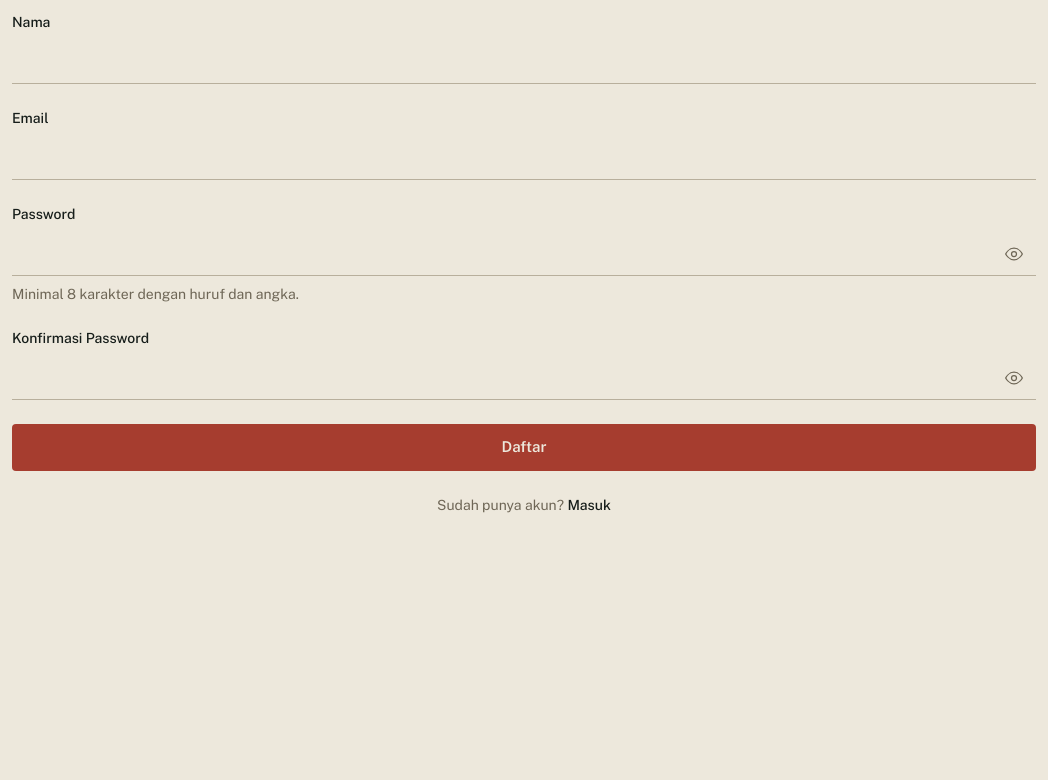
Test: RegisterForm › shows backend field errors inline
The image size is (1048, 780).
Type "Budi" into the field labelled "Nama" at (524,62), box [12,40,1036,84]
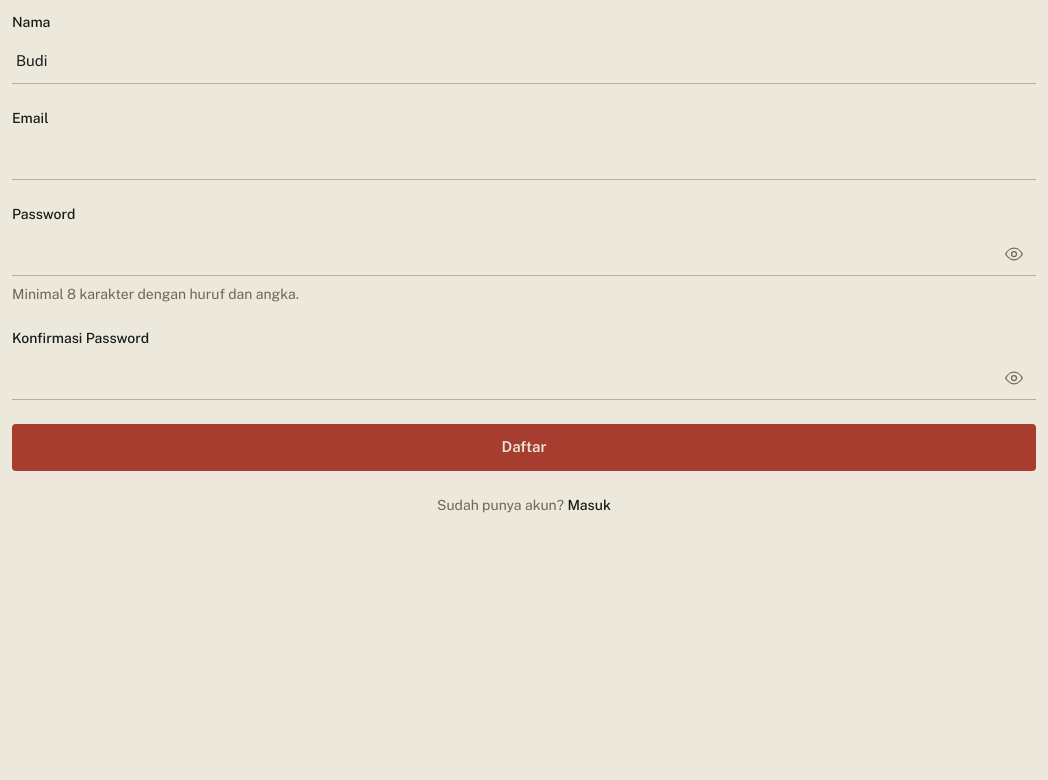
Type "a@b.com" into the field labelled "Email" at (524,158), box [12,136,1036,180]
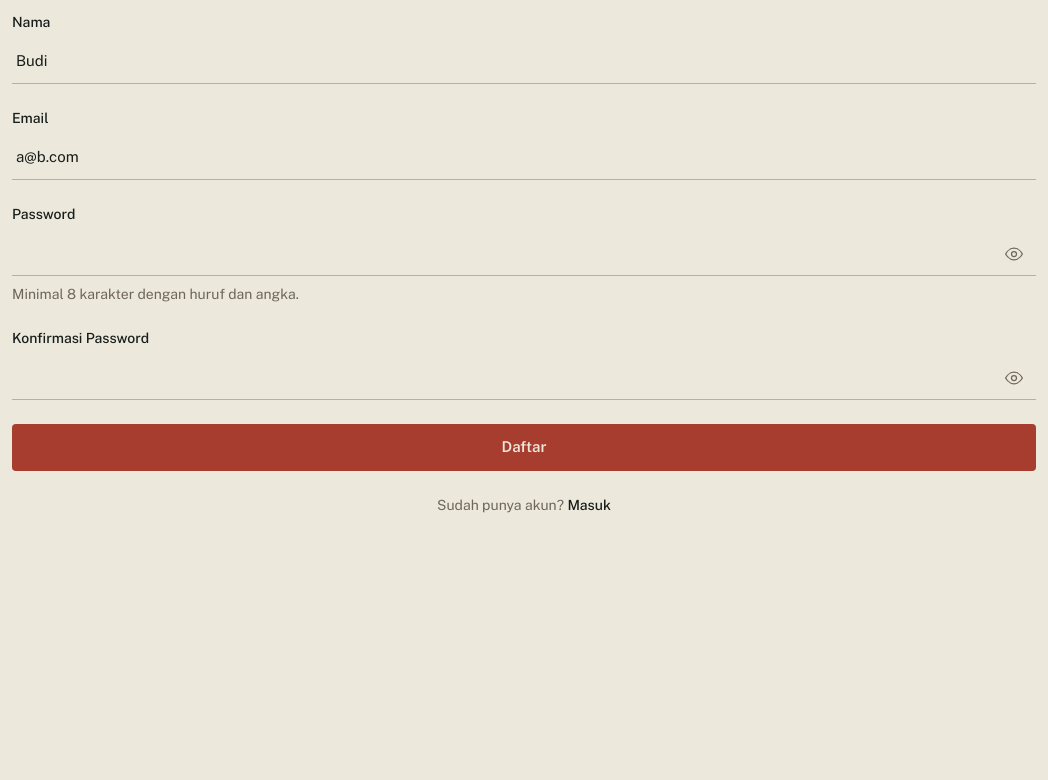
Type "Test1234" into the password field labelled "Password" at (524,254), box [12,232,1036,276]
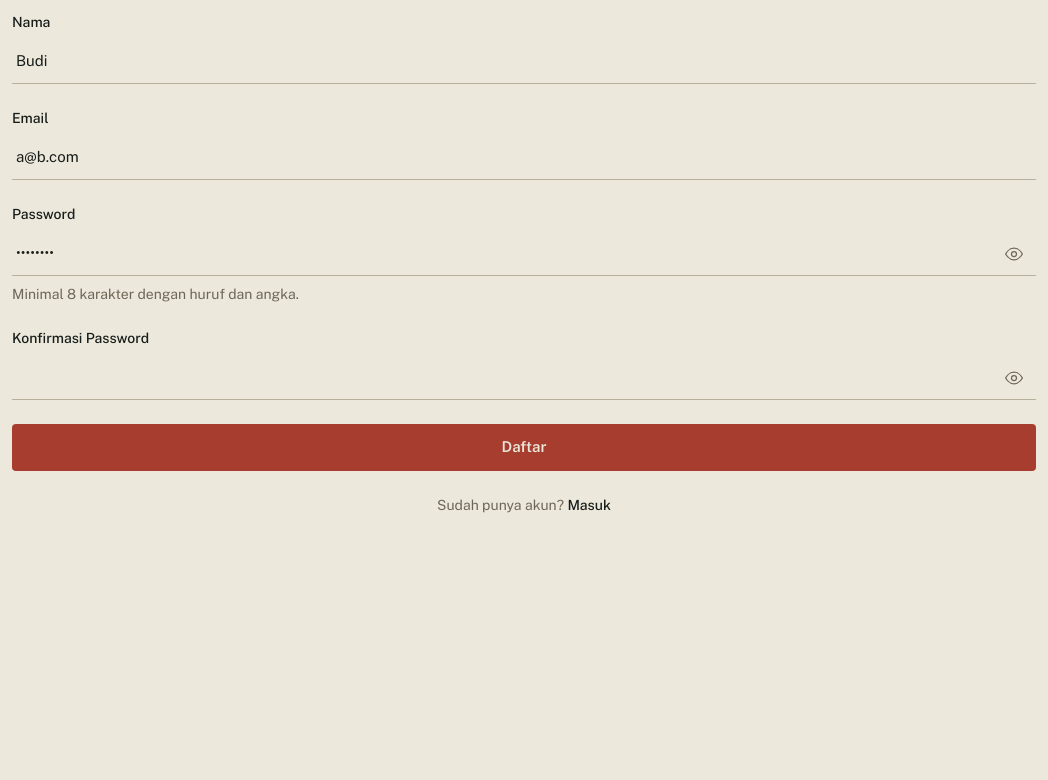
Type "Test1234" into the password field labelled "Konfirmasi Password" at (524,378), box [12,356,1036,400]
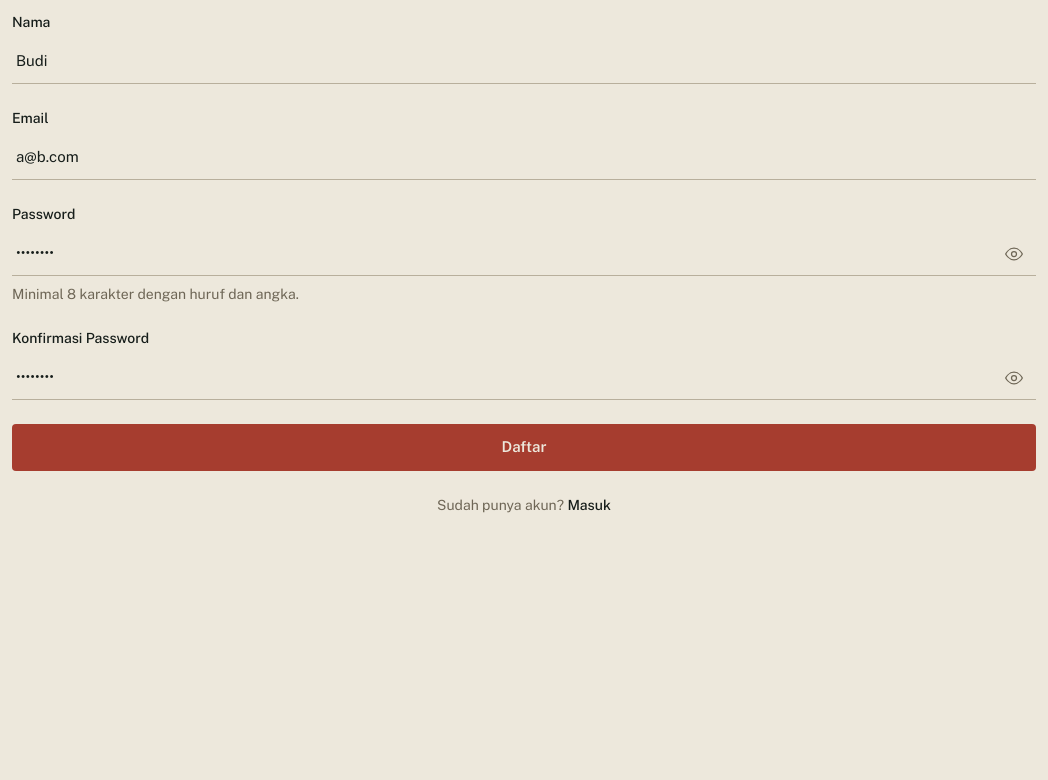
Click the button "Daftar" at (524,447), box [12,424,1036,470]
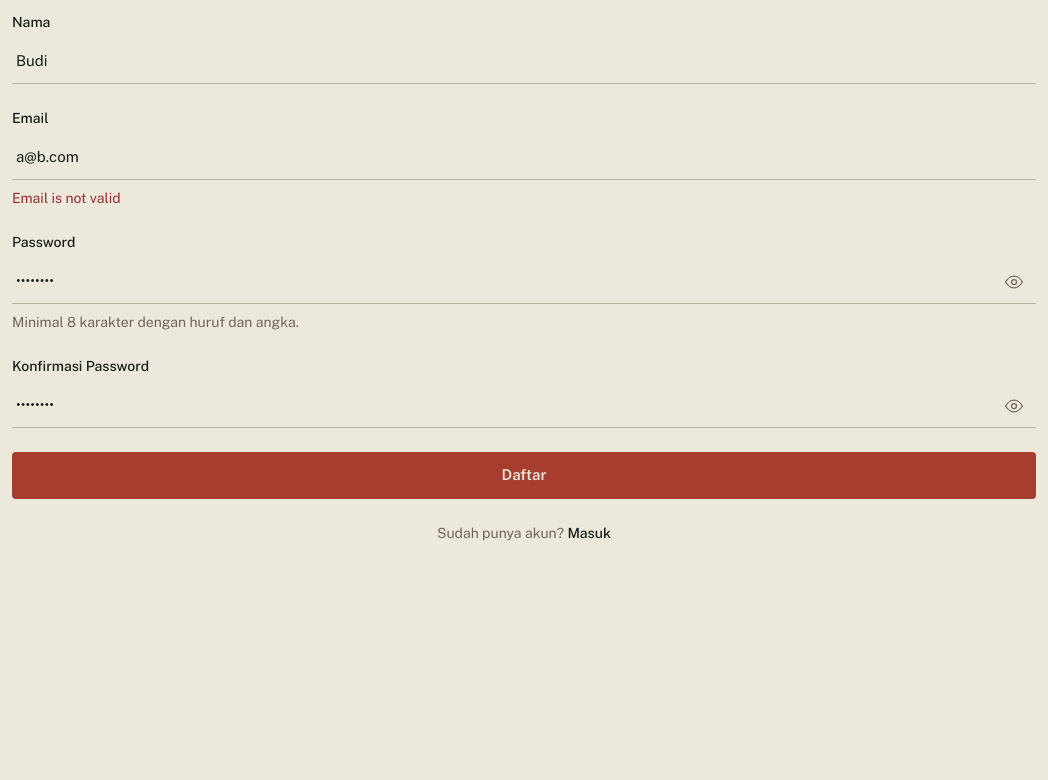
Result: the text "Email is not valid" is shown at [12,190,120,206]
